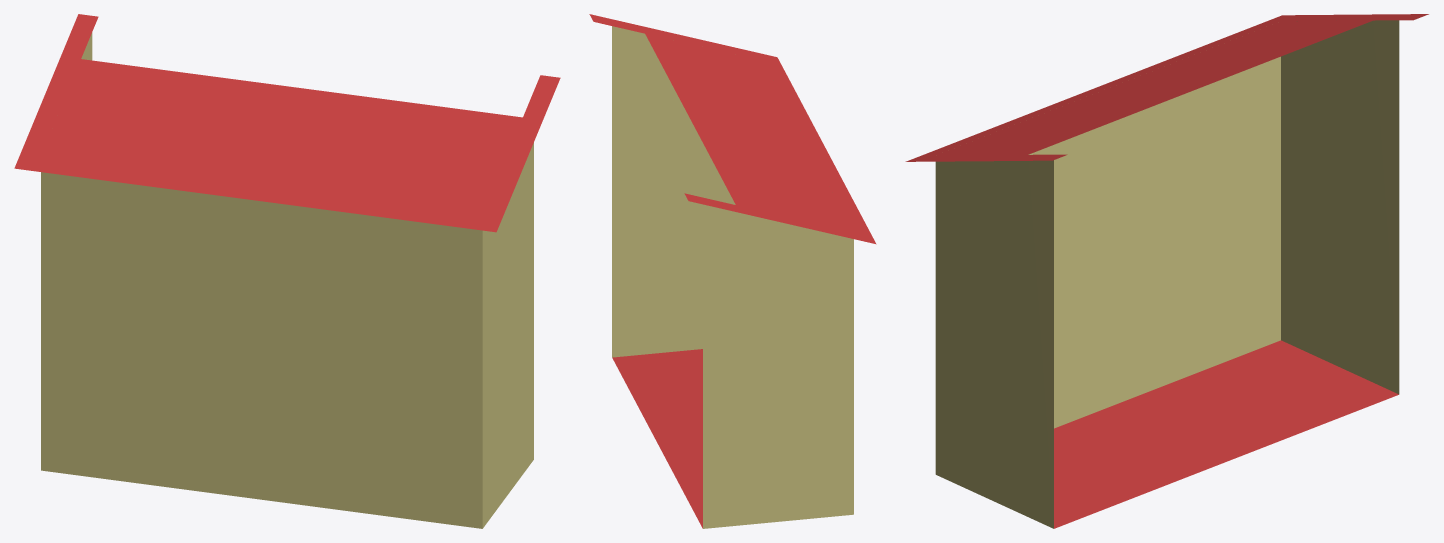
3 views of the same model, side by side, from view 1: azimuth 30°, elevation 25°; view 2: azimuth 150°, elevation 25°; view 3: azimuth 270°, elevation 25° (orthographic). The views are drawn at different scales.
Bounding box in the file's own units: 11.8 × 12.2 × 9.78.
